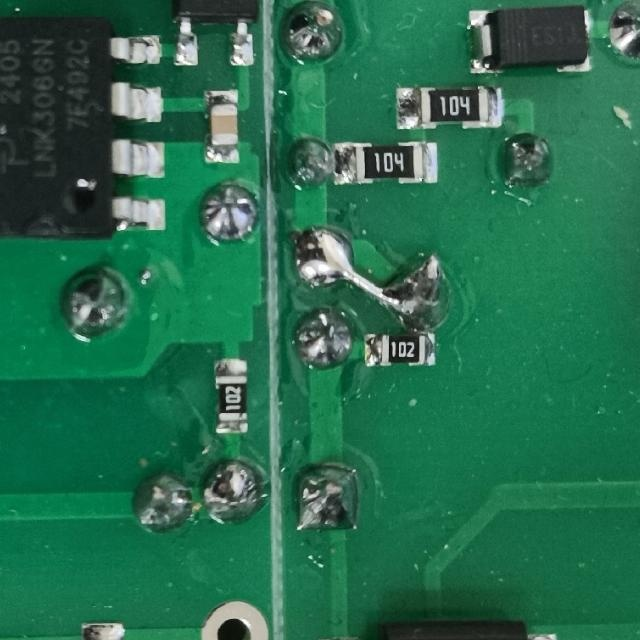chip-capacitor: (202, 86, 242, 165)
chip-resistor: (333, 140, 441, 186), (395, 86, 504, 130), (212, 356, 251, 437), (364, 332, 438, 368)
diode: (467, 5, 594, 76)
ic: (0, 9, 171, 238)
